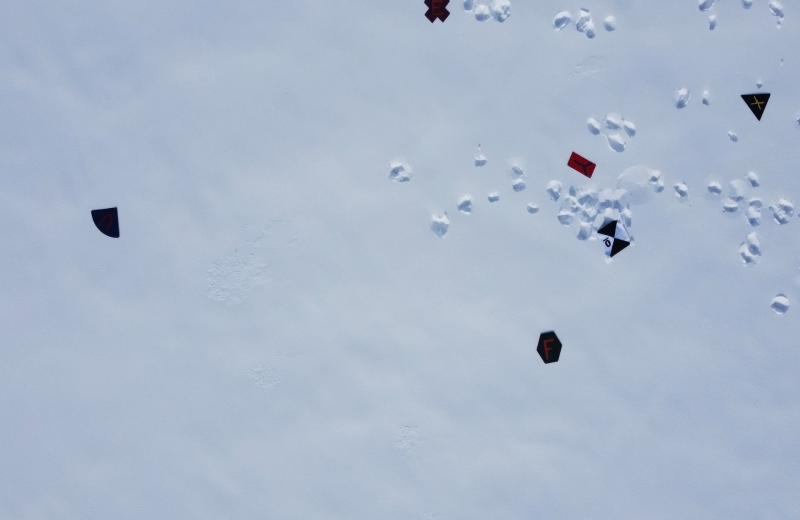Cross: (422, 0, 452, 21)
Hexagon: (535, 328, 566, 368)
Quarter Circle: (86, 205, 124, 241)
Rectangle: (568, 150, 598, 180)
Triangle: (740, 92, 775, 122)
